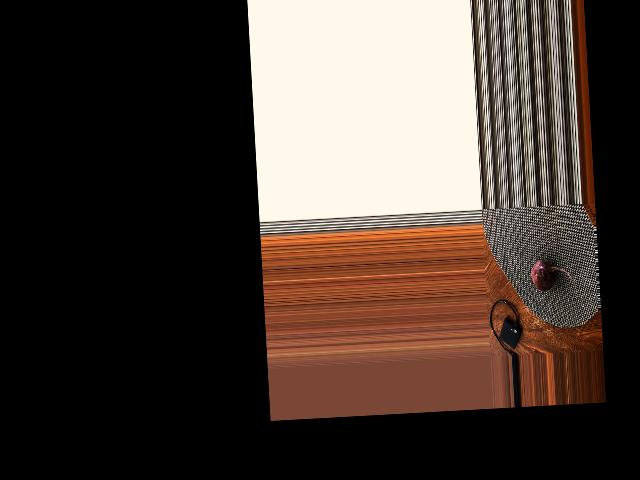beet: (531, 258, 573, 291)
